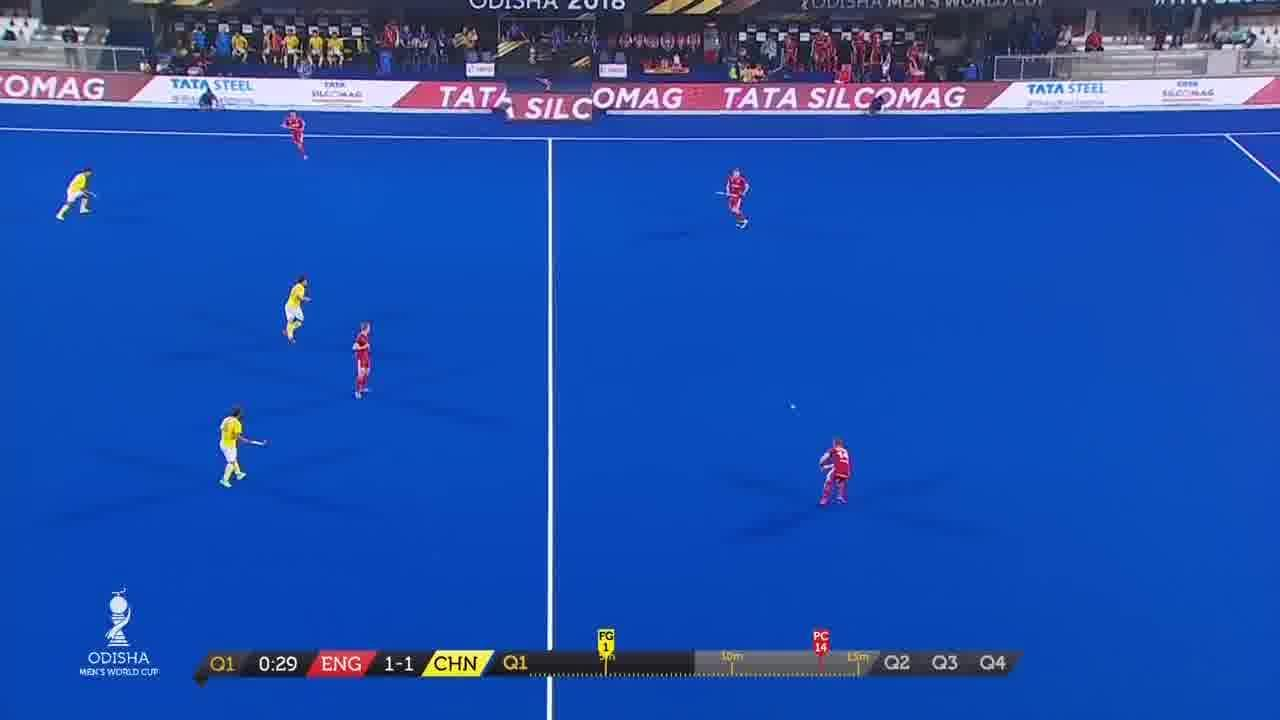ball: (787, 395, 804, 420)
